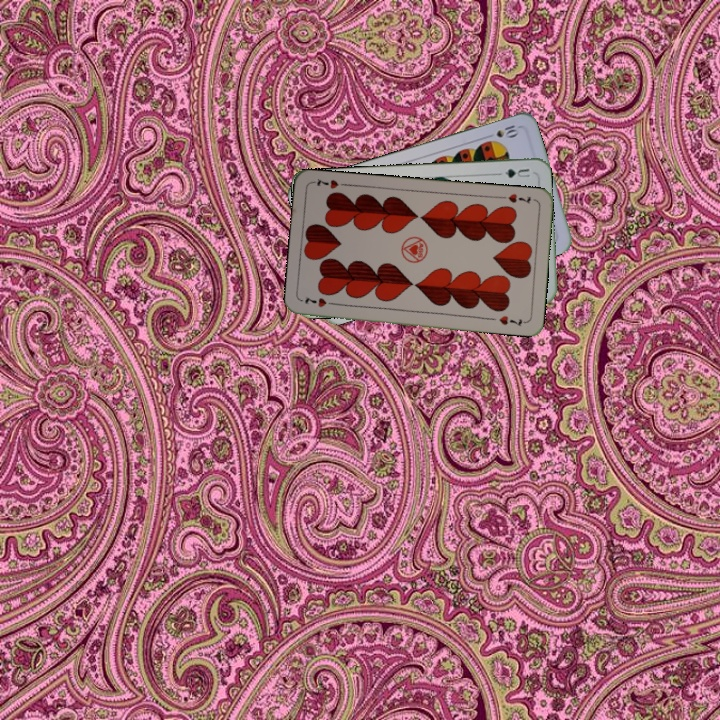GU: (501, 164, 532, 181)
H7: (301, 294, 340, 309), (497, 190, 533, 206)
S10: (482, 121, 521, 141)
